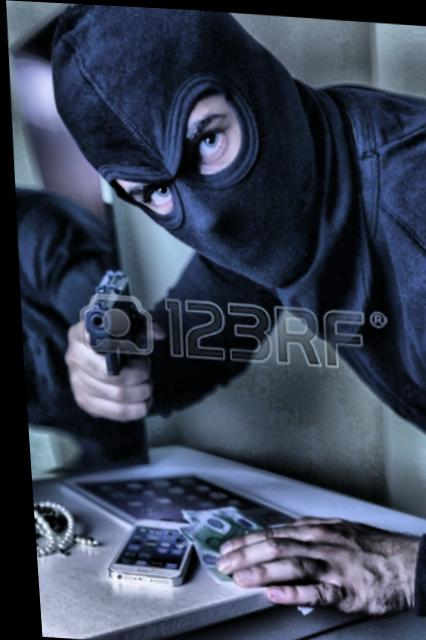pistol: (72, 266, 135, 375)
